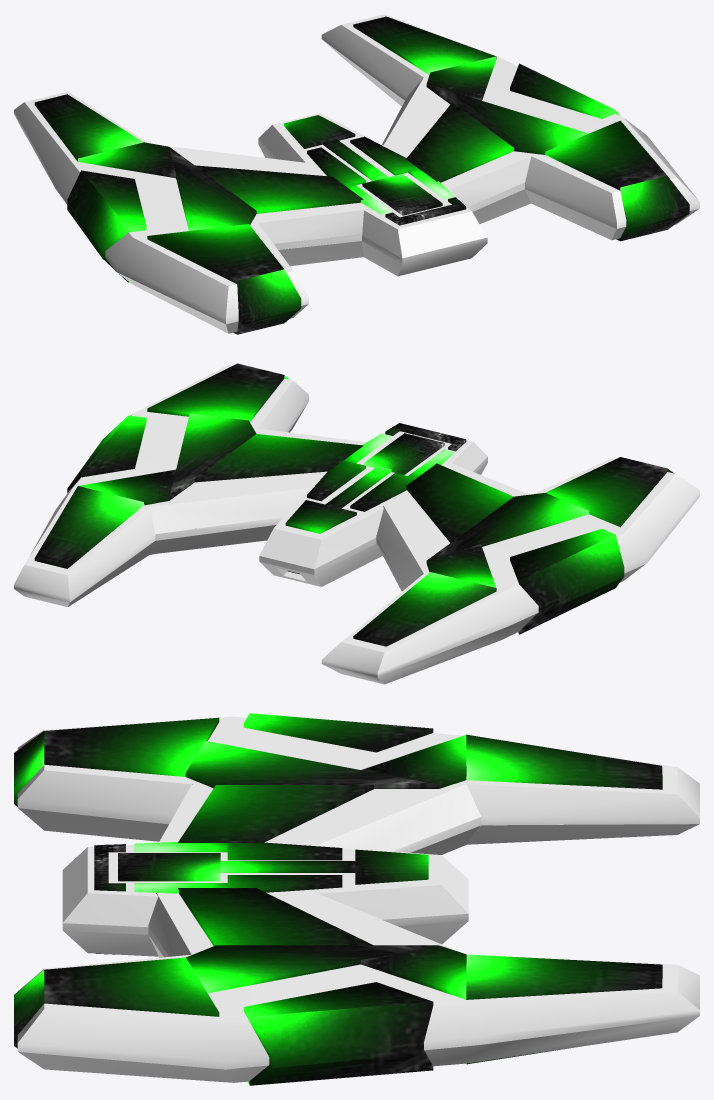
File: Borg_TacticalH.fbx
3 renders of one model, top to bottom at view 1: azimuth 30°, elevation 25°; view 2: azimuth 150°, elevation 25°; view 3: azimuth 270°, elevation 25°, orthographic. The views are drawn at different scales.
Parts seen in each view (by area): view 1: Borg_TacticalH; view 2: Borg_TacticalH; view 3: Borg_TacticalH.
Boxes of the visible parts, bbox=[...] form: Borg_TacticalH: bbox=[14, 14, 699, 334]; Borg_TacticalH: bbox=[14, 363, 699, 684]; Borg_TacticalH: bbox=[14, 713, 699, 1085].
Size of the model in its own units: 548 by 53.2 by 479.
Materials: 1 (1 with a texture image).
